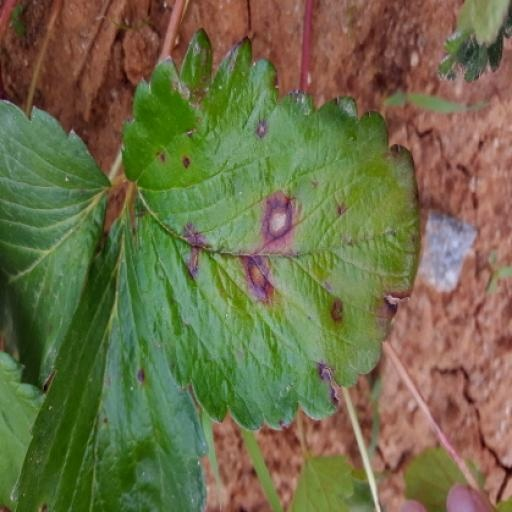Leaf Spot: (120, 80, 420, 485), (10, 0, 209, 310)
